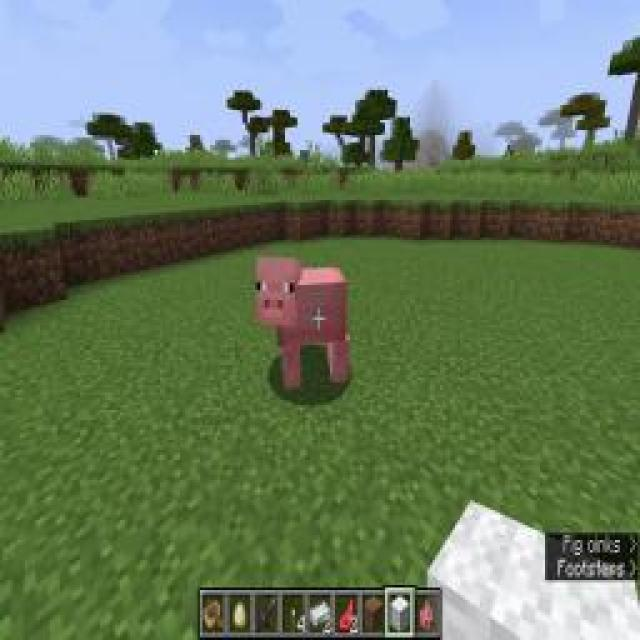Pig: (254, 249, 351, 396)
